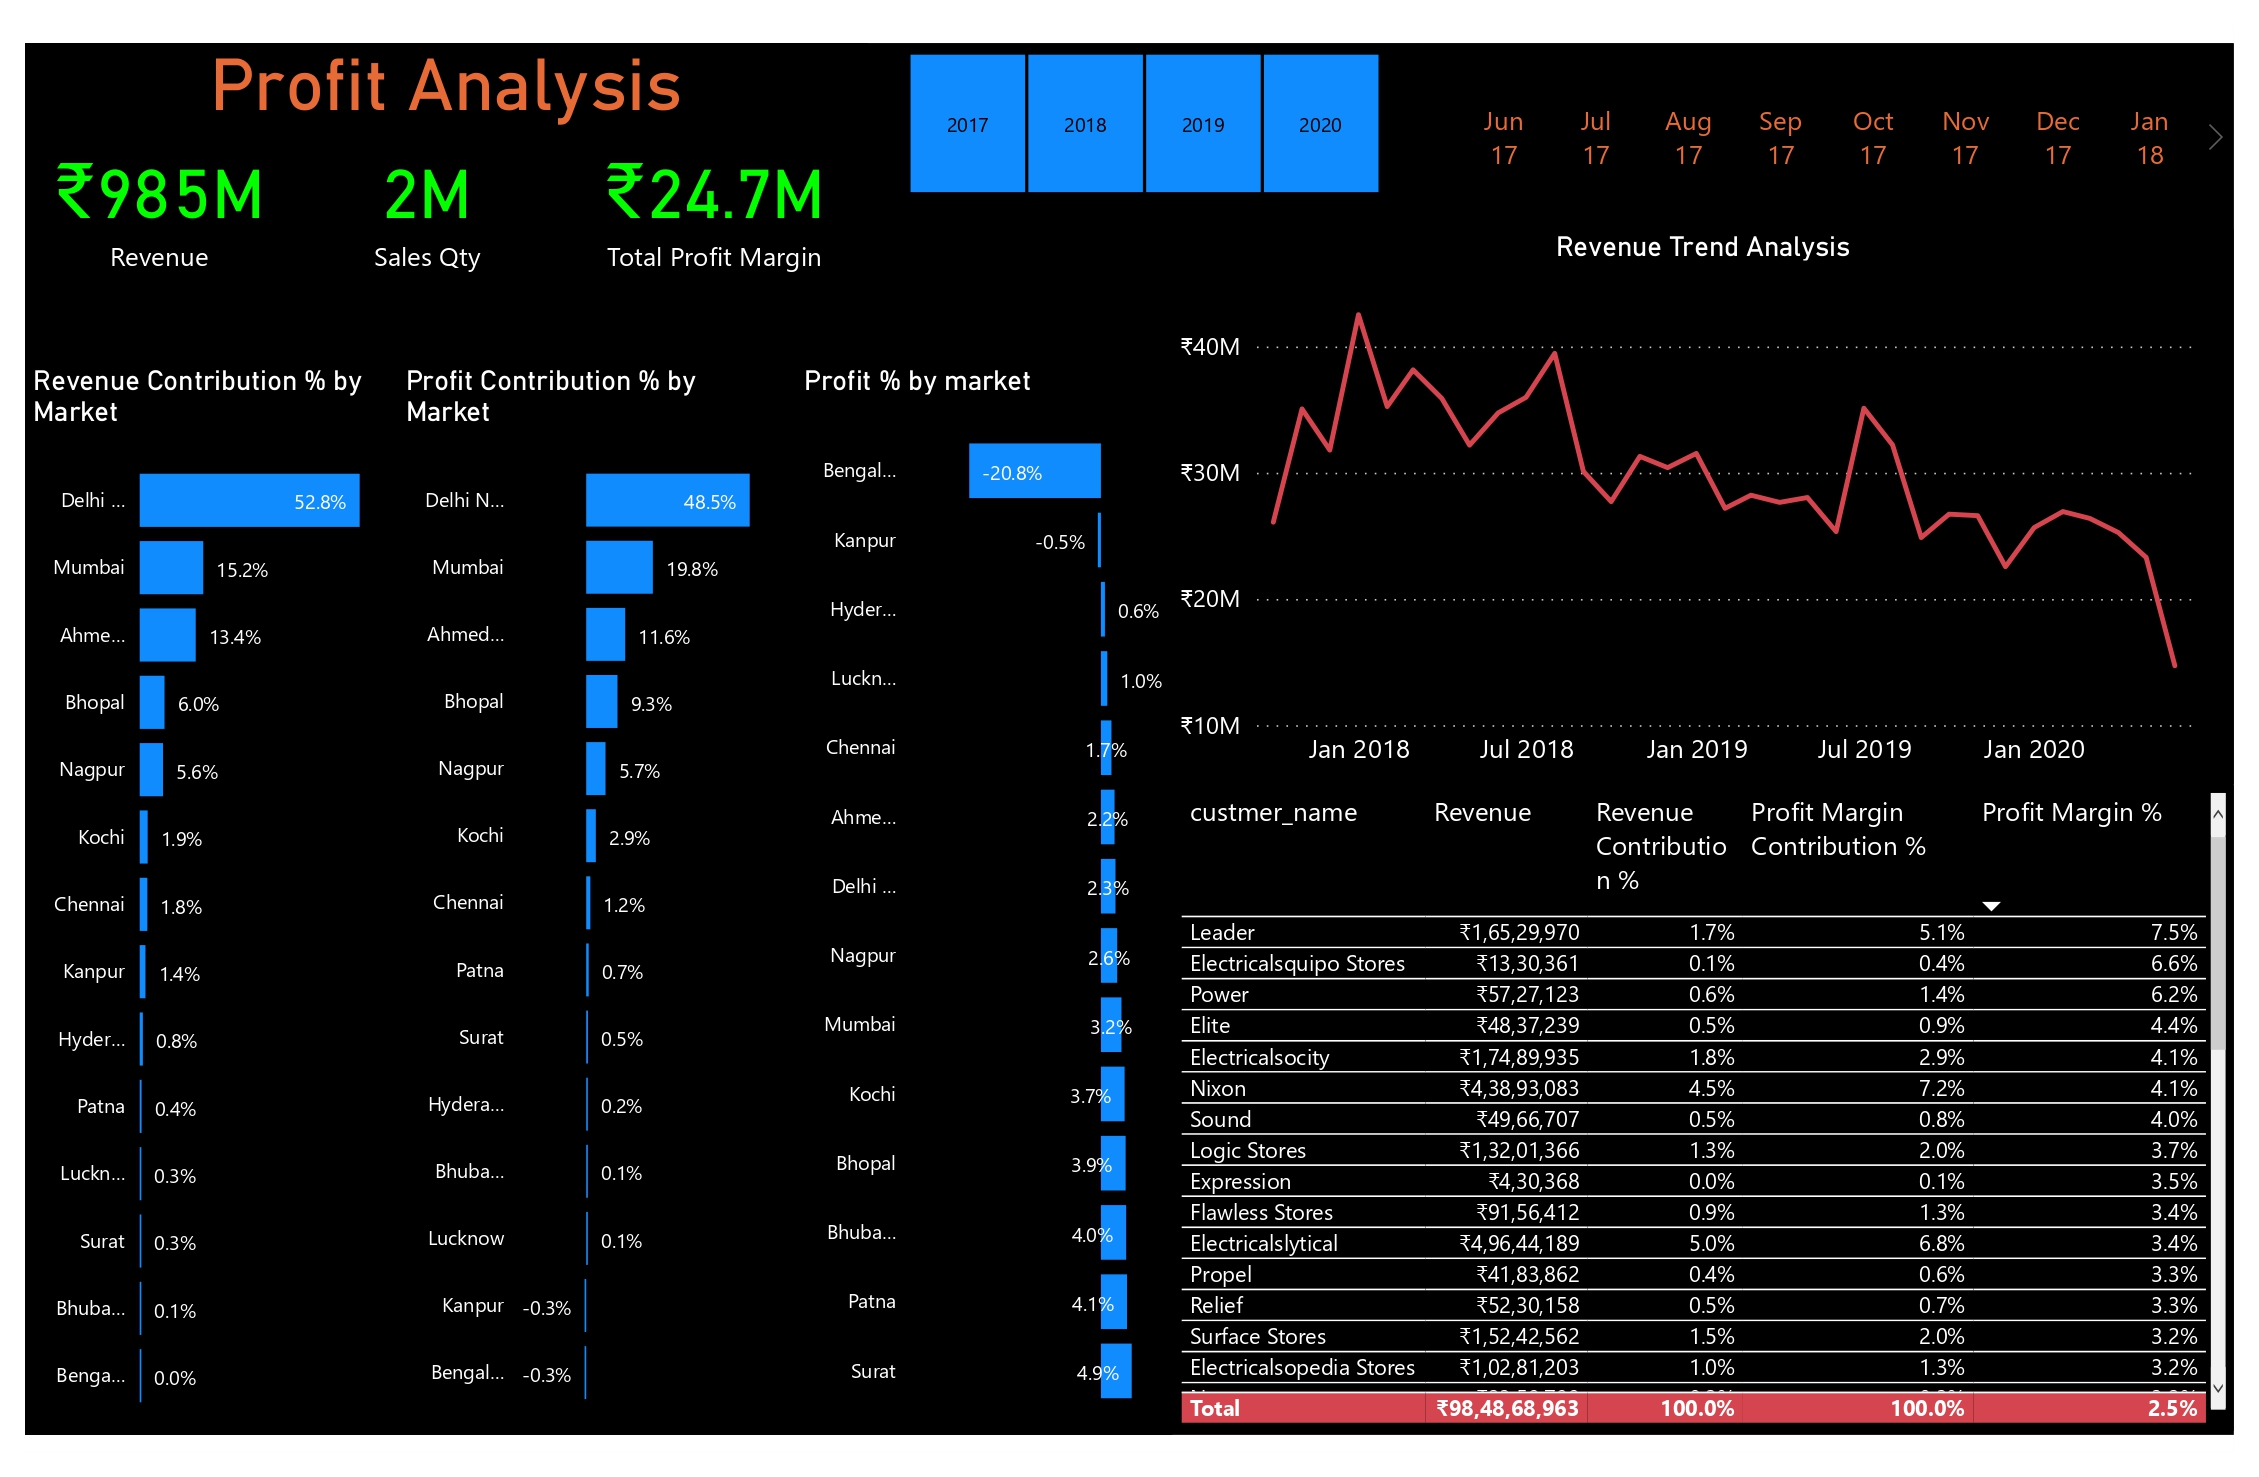

The page's visual inventory and layout, read from the dashboard file:
{"tool":"powerbi","page":{"name":"Profit Analysis","canvas":[1350,850],"ordinal":1},"visuals":[{"type":"card","fields":{"Values":["BaseMeasures (2).Revenue"]},"box":[0,0,163.8,195.7],"z":0},{"type":"card","fields":{"Values":["BaseMeasures (2).Sales Qty"]},"box":[163.8,0,163.8,195.7],"z":1000},{"type":"barChart","title":"Profit % by market","fields":{"Y":["BaseMeasures (2).Profit Margin %"],"Category":["sales markets.markets_name"]},"box":[471.3,195.7,229.7,655],"z":2000},{"type":"barChart","title":"Profit Contribution % by Market","fields":{"Y":["BaseMeasures (2).Profit Margin Contribution %"],"Category":["sales markets.markets_name"]},"box":[227.7,195.7,243.6,655],"z":3000},{"type":"slicer","fields":{"Values":["sales date.year"]},"box":[515.2,0,335.5,97.9],"z":4000},{"type":"slicer","fields":{"Values":["sales date.cy_date"]},"box":[850.7,0,499.3,113.8],"z":5000},{"type":"tableEx","title":"Top 5 Customers","fields":{"Values":["sales customers.custmer_name","BaseMeasures (2).Revenue","BaseMeasures (2).Revenue Contribution %","BaseMeasures (2).Profit Margin Contribution %","BaseMeasures (2).Profit Margin %"]},"box":[701,453.3,649,395.4],"z":6000},{"type":"lineChart","title":"Revenue Trend Analysis","fields":{"Y":["BaseMeasures (2).Revenue"],"Category":["sales date.cy_date"]},"box":[701,113.8,649,339.5],"z":7000},{"type":"card","fields":{"Values":["BaseMeasures (2).Total Profit Margin"]},"box":[327.5,0,187.7,195.7],"z":8000},{"type":"barChart","title":"Revenue Contribution % by Market","fields":{"Y":["BaseMeasures (2).Revenue Contribution %"],"Category":["sales markets.markets_name"]},"box":[0,195.7,227.7,657],"z":9000},{"type":"textbox","title":"Profit Analysis","box":[0,0,515.2,49.9],"z":9001}]}

Visuals, with their boxes on the page's 1350x850 design canvas (x1, y1, x2, y2). These are canvas units, not pixel positions in the 2259x1477 screenshot, which may show the page scaled, cropped or inside an application window:
card - BaseMeasures (2).Revenue: select_region(0, 0, 164, 196)
card - BaseMeasures (2).Sales Qty: select_region(164, 0, 328, 196)
"Profit % by market" barChart: select_region(471, 196, 701, 851)
"Profit Contribution % by Market" barChart: select_region(228, 196, 471, 851)
slicer - sales date.year: select_region(515, 0, 851, 98)
slicer - sales date.cy_date: select_region(851, 0, 1350, 114)
"Top 5 Customers" tableEx: select_region(701, 453, 1350, 849)
"Revenue Trend Analysis" lineChart: select_region(701, 114, 1350, 453)
card - BaseMeasures (2).Total Profit Margin: select_region(328, 0, 515, 196)
"Revenue Contribution % by Market" barChart: select_region(0, 196, 228, 853)
"Profit Analysis" textbox: select_region(0, 0, 515, 50)
